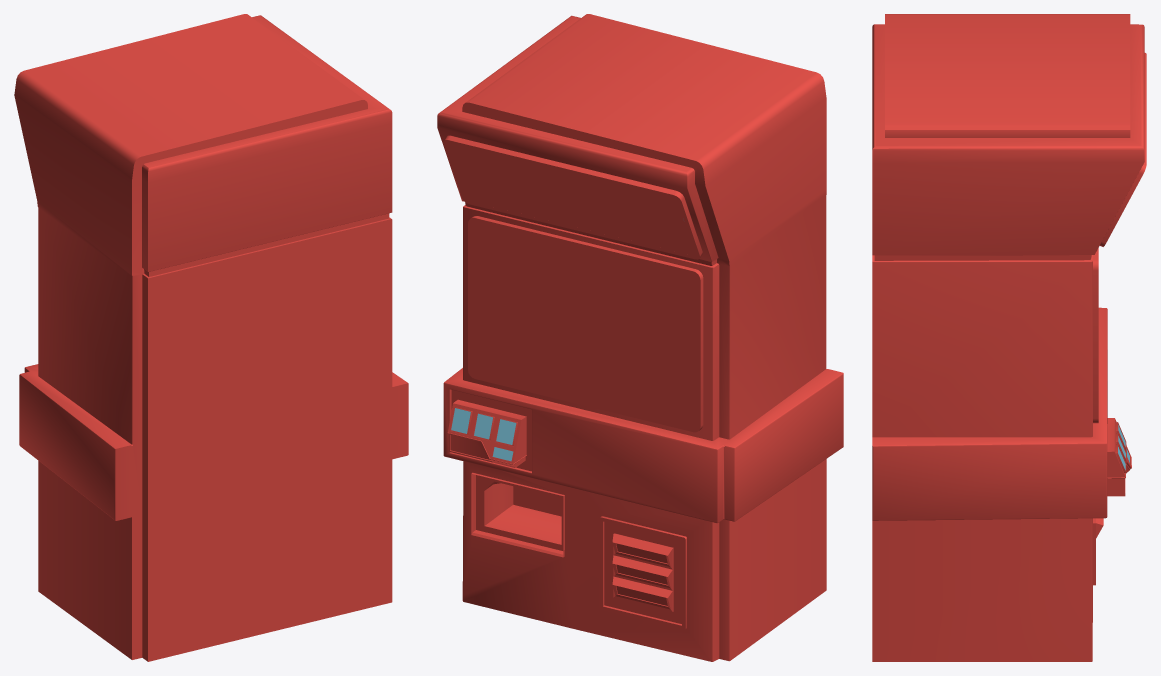
The model's file is Vending_Machine_1.fbx.
3 views of the same model, side by side, from view 1: azimuth 30°, elevation 25°; view 2: azimuth 150°, elevation 25°; view 3: azimuth 270°, elevation 25° (orthographic). The views are drawn at different scales.
Visible parts, largest first — view 1: BASE; view 2: BASE, SCREEN_MAIN_DESIGN, SCREEN_TOP_DESIGN, SCREEN_MAIN, BUTTONS, VENT, SCREEN_TOP; view 3: BASE, BUTTONS, SCREEN_MAIN, SCREEN_TOP.
Boxes of the visible parts, box(x1,y1,x2,y2) form: BASE: box(14, 14, 408, 661); BASE: box(437, 14, 843, 661); SCREEN_MAIN_DESIGN: box(473, 224, 694, 425); SCREEN_TOP_DESIGN: box(449, 144, 694, 255); SCREEN_MAIN: box(468, 216, 703, 432); BUTTONS: box(447, 399, 526, 467); VENT: box(612, 533, 673, 611); SCREEN_TOP: box(443, 135, 702, 259); BASE: box(872, 14, 1144, 661); BUTTONS: box(1107, 418, 1131, 496); SCREEN_MAIN: box(1093, 248, 1098, 423); SCREEN_TOP: box(1100, 53, 1146, 246).
Size of the model in its own units: 112 by 187 by 88.38.
